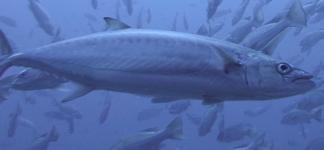Scombridae -Tunas-: (0, 12, 322, 113)
